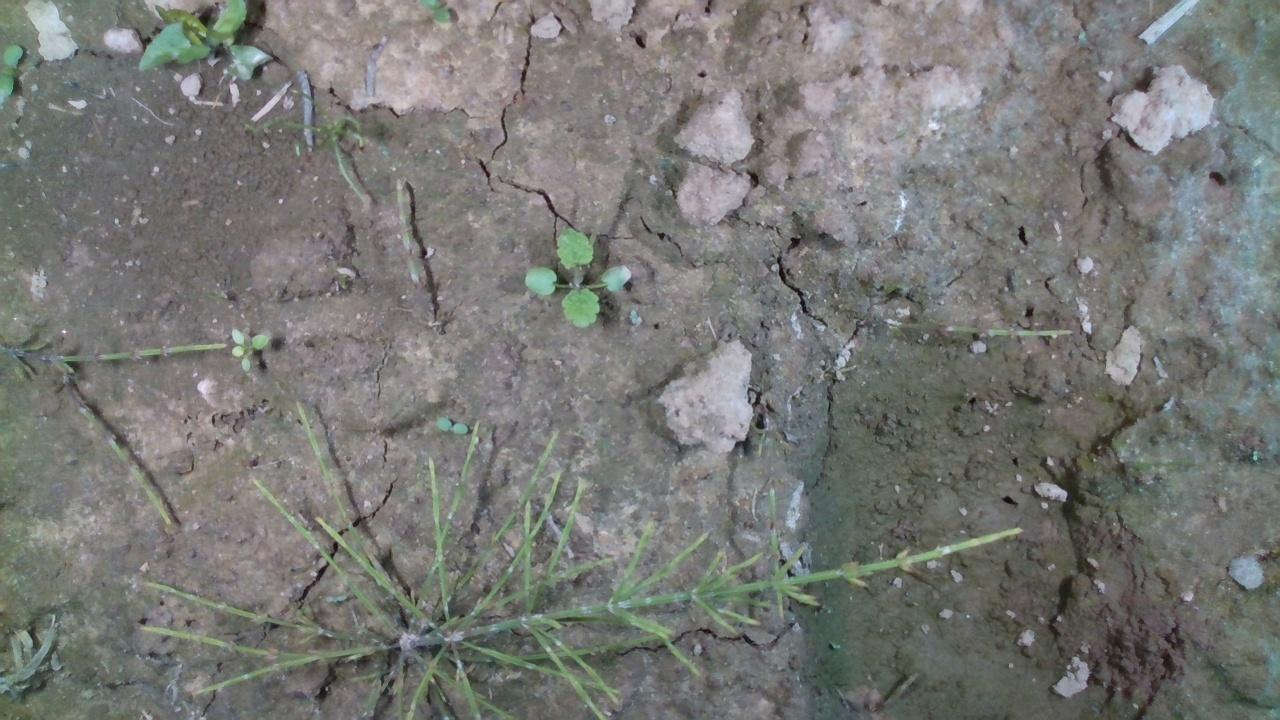weed: (524, 231, 633, 327), (227, 327, 269, 371), (433, 415, 468, 434)
